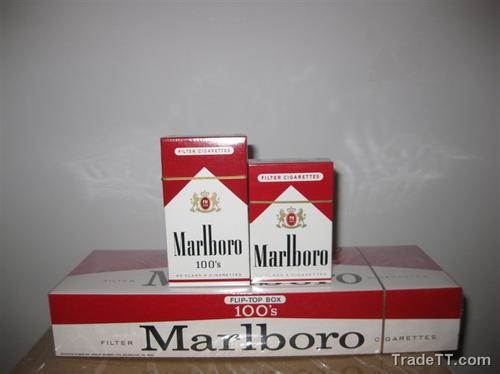marlboro: (166, 139, 244, 283), (251, 164, 332, 282)
